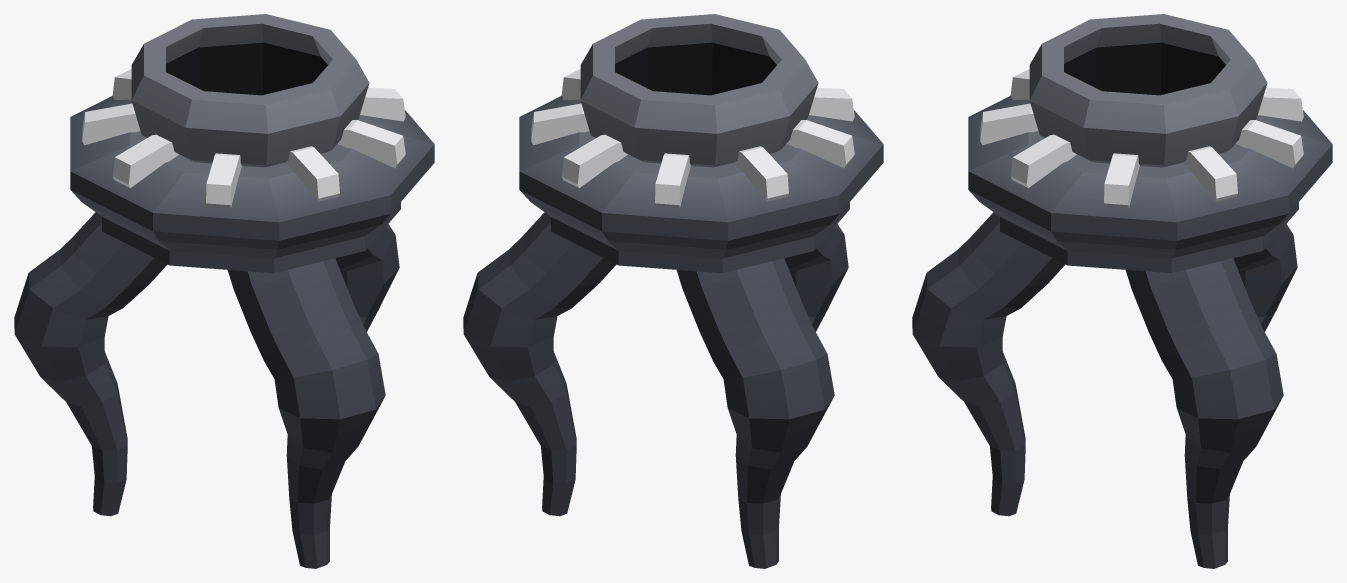
The model's file is turret_mortier1.fbx.
3 views of the same model, side by side, from view 1: azimuth 30°, elevation 25°; view 2: azimuth 150°, elevation 25°; view 3: azimuth 270°, elevation 25° (orthographic).
Parts seen in each view (by area): view 1: Tour2_finale_1; view 2: Tour2_finale_1; view 3: Tour2_finale_1.
Boxes of the visible parts, left/top/right/bottom form: Tour2_finale_1: left=14, top=14, right=434, bottom=568; Tour2_finale_1: left=463, top=14, right=883, bottom=568; Tour2_finale_1: left=912, top=14, right=1332, bottom=568.
Size of the model in its own units: 240 by 286 by 239.
